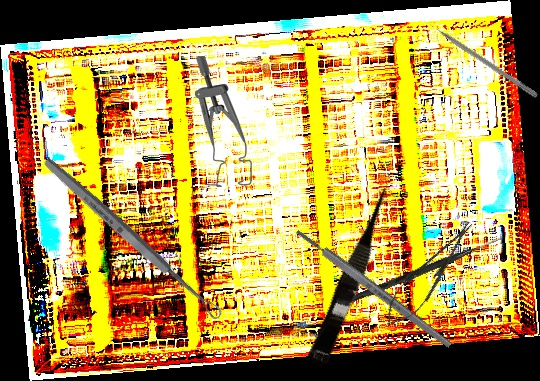Hook Surgical: (348, 233, 504, 305)
Micro Scissor: (305, 178, 403, 371)
Needle Holder: (376, 213, 483, 336)
Pusher: (421, 16, 540, 99)
Scalpel Handle: (293, 226, 454, 351)
Speculum: (195, 56, 252, 187)
Surgical Spoon: (40, 154, 225, 323)
